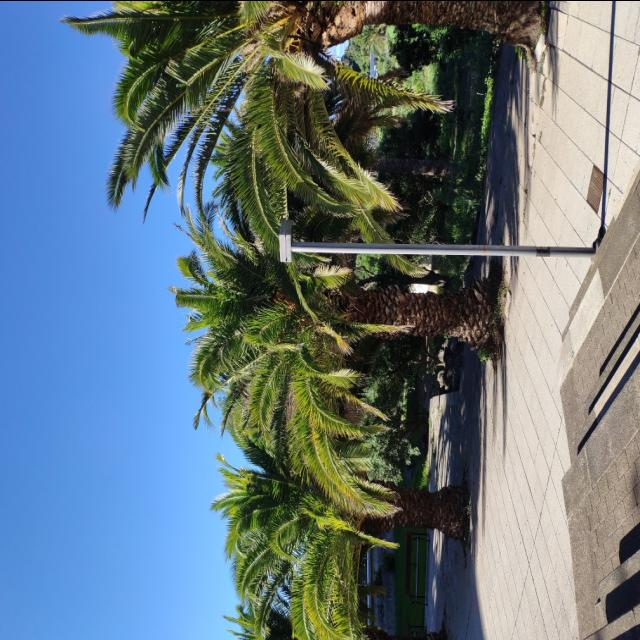Palm-Trees: (179, 169, 497, 453), (221, 373, 475, 638)
